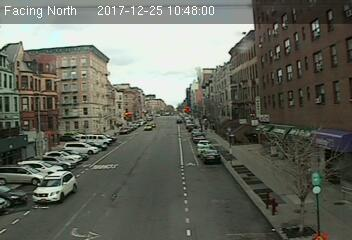car: (32, 171, 76, 203), (200, 149, 220, 162)
